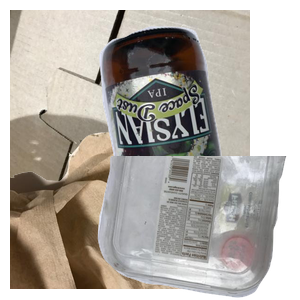cardboard: (10, 10, 250, 190)
glass: (97, 24, 300, 204)
plastic: (95, 156, 300, 300)
trash: (10, 120, 229, 300)
